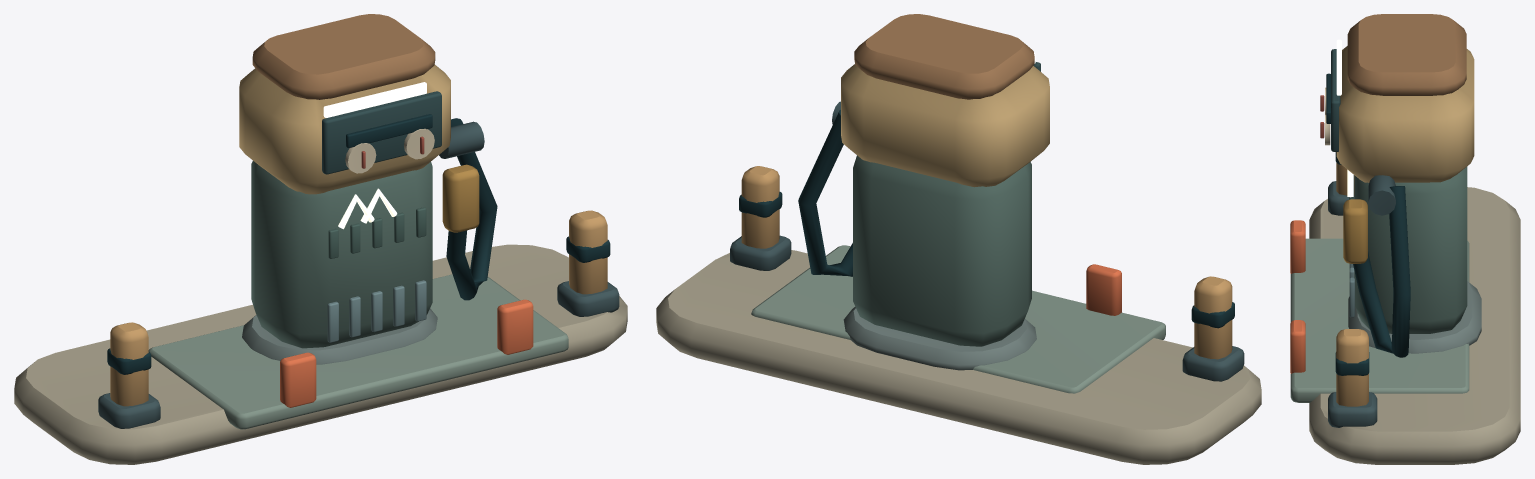
File: pump_vintage.glb
3 views of the same model, side by side, from view 1: azimuth 30°, elevation 25°; view 2: azimuth 150°, elevation 25°; view 3: azimuth 270°, elevation 25° (orthographic). The views are drawn at different scales.
Visible parts, largest first — view 1: Pump_vintage; view 2: Pump_vintage; view 3: Pump_vintage.
Part boxes in pixels (x1,y1,x2,y2): Pump_vintage: (14,14,627,464); Pump_vintage: (656,14,1261,464); Pump_vintage: (1290,14,1520,464).
Bounding box in the file's own units: 2.94 × 1.65 × 1.12.
